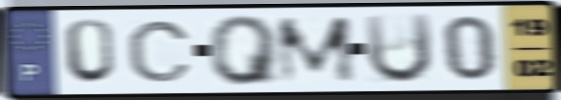0: (439, 14, 499, 83), (61, 17, 117, 87)
C: (124, 18, 195, 84)
M: (273, 13, 361, 86)
Q: (206, 13, 283, 88)
U: (361, 11, 435, 86)
